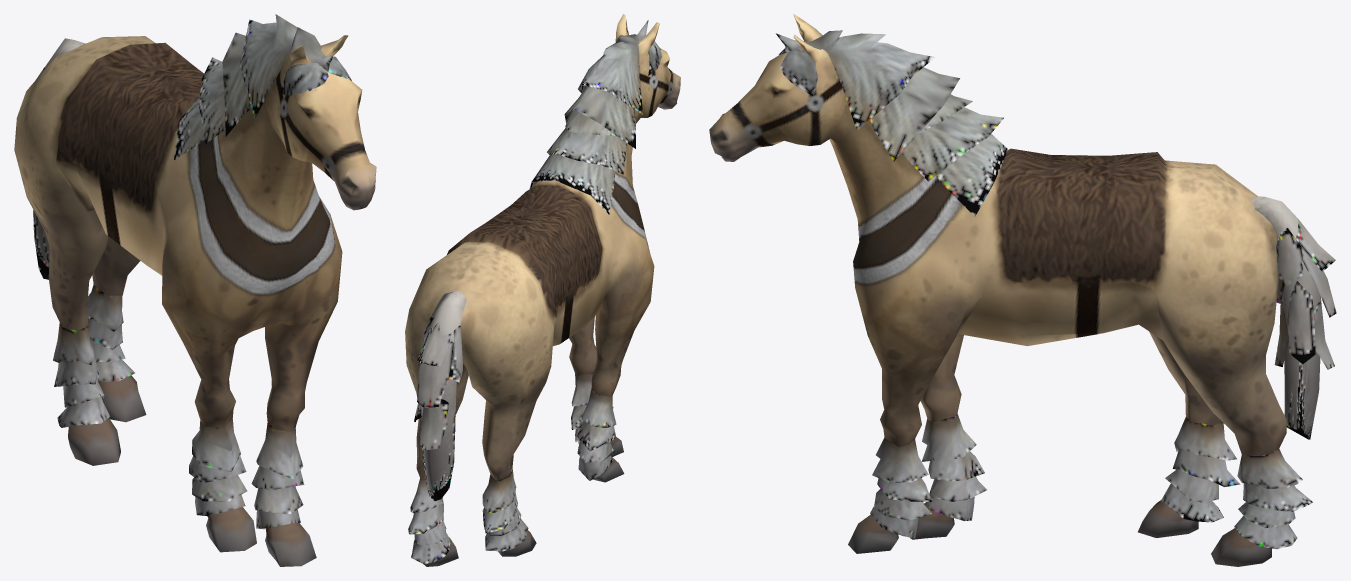
The model's file is body-base.glb.
3 views of the same model, side by side, from view 1: azimuth 30°, elevation 25°; view 2: azimuth 150°, elevation 25°; view 3: azimuth 270°, elevation 25° (orthographic). The views are drawn at different scales.
Size of the model in its own units: 0.7971 by 2.51 by 2.75.
Materials: 1 (1 with a texture image).
